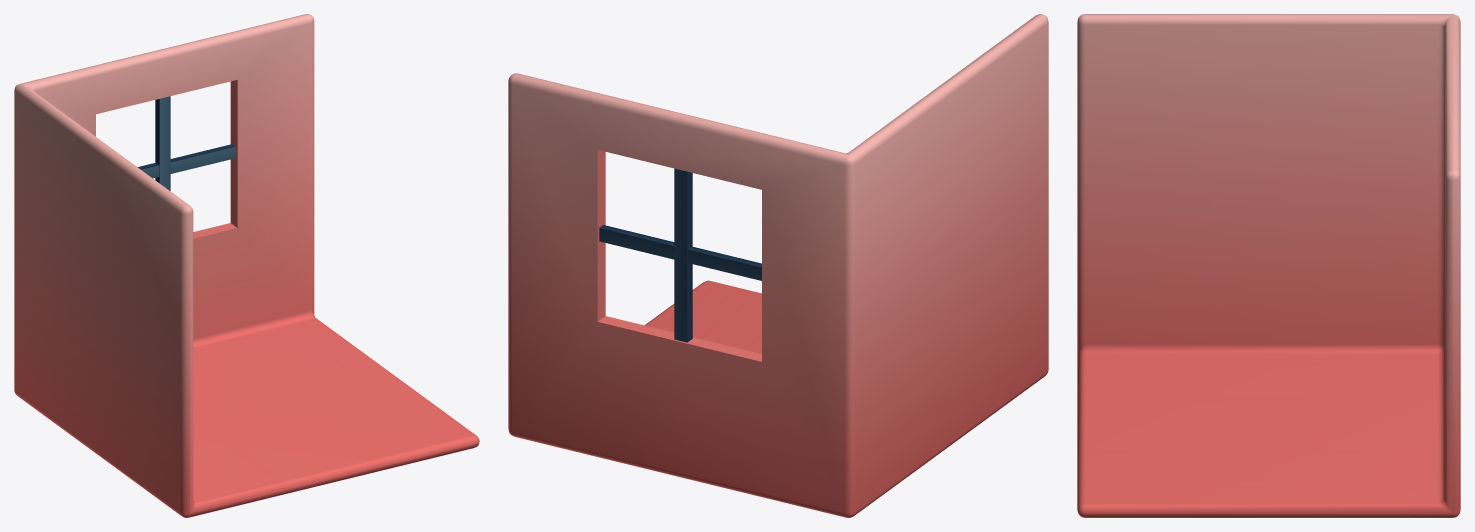
File: lowpoly_house.glb
3 views of the same model, side by side, from view 1: azimuth 30°, elevation 25°; view 2: azimuth 150°, elevation 25°; view 3: azimuth 270°, elevation 25° (orthographic). The views are drawn at different scales.
Visible parts, largest first — view 1: BaseRoom, Cube.001; view 2: BaseRoom, Cube.001; view 3: BaseRoom.
Part boxes in pixels (x1=…): BaseRoom: x1=14, y1=14, x2=479, y2=517; Cube.001: x1=137, y1=96, x2=235, y2=190; BaseRoom: x1=508, y1=14, x2=1048, y2=517; Cube.001: x1=599, y1=168, x2=761, y2=342; BaseRoom: x1=1077, y1=14, x2=1460, y2=517.
Bounding box in the file's own units: 2.11 × 2.11 × 2.11.
1 material, 1 textured.
